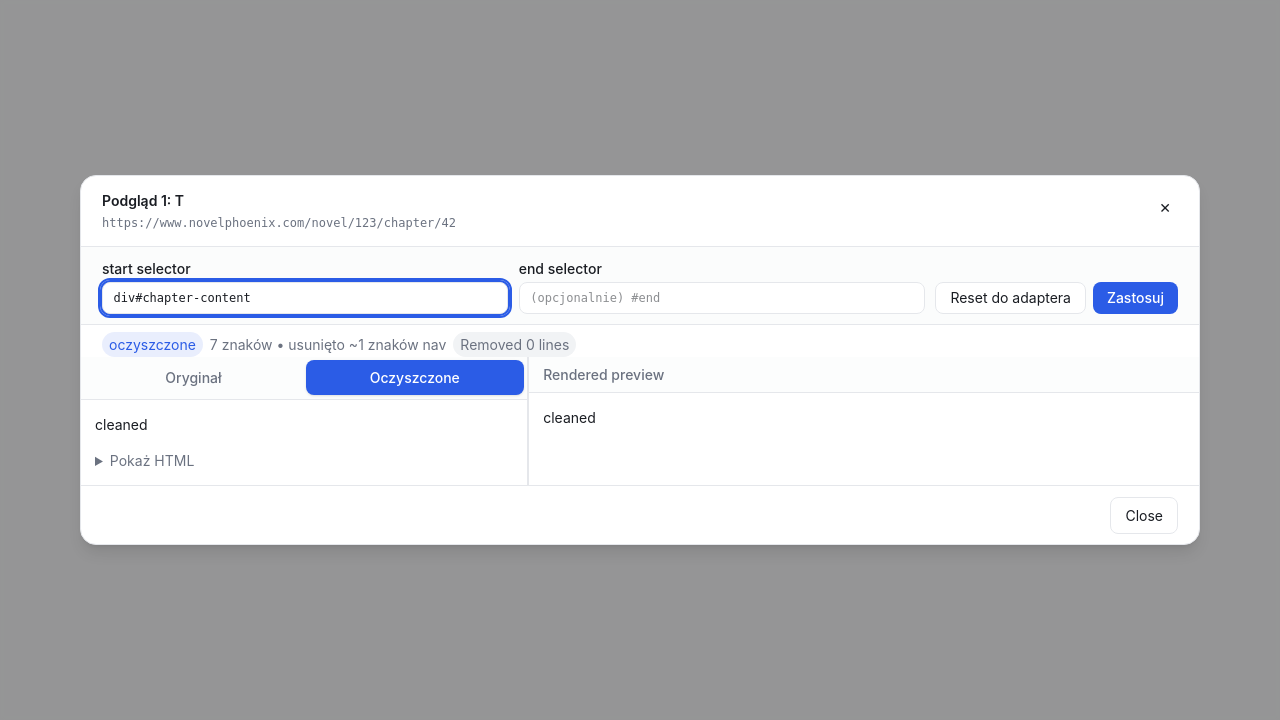
Preview 2.2 — selector boundary + live re-parse › sanitizes onerror payload in rendered Original tab
Click the tab with test id "preview-tab-original".
click(193, 378)  # box [84,360,302,395]
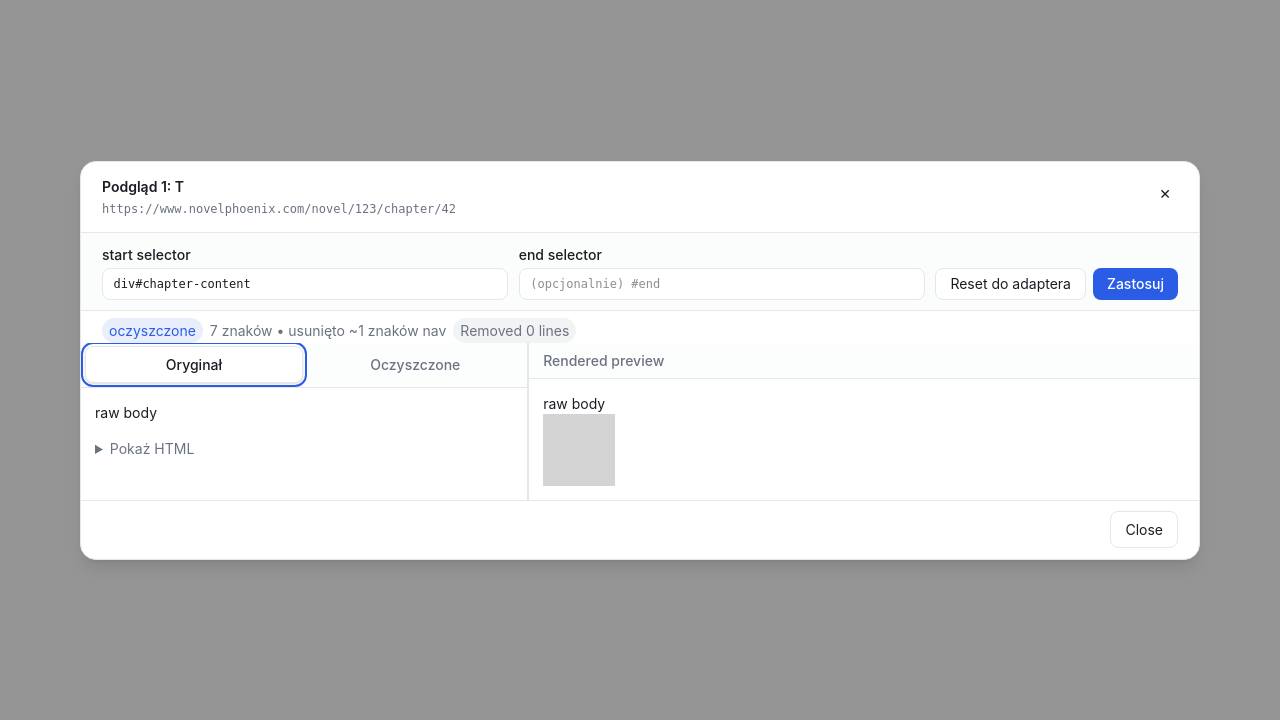
Check: the element with test id "preview-rendered" reads "raw body", box [543,394,605,412]
